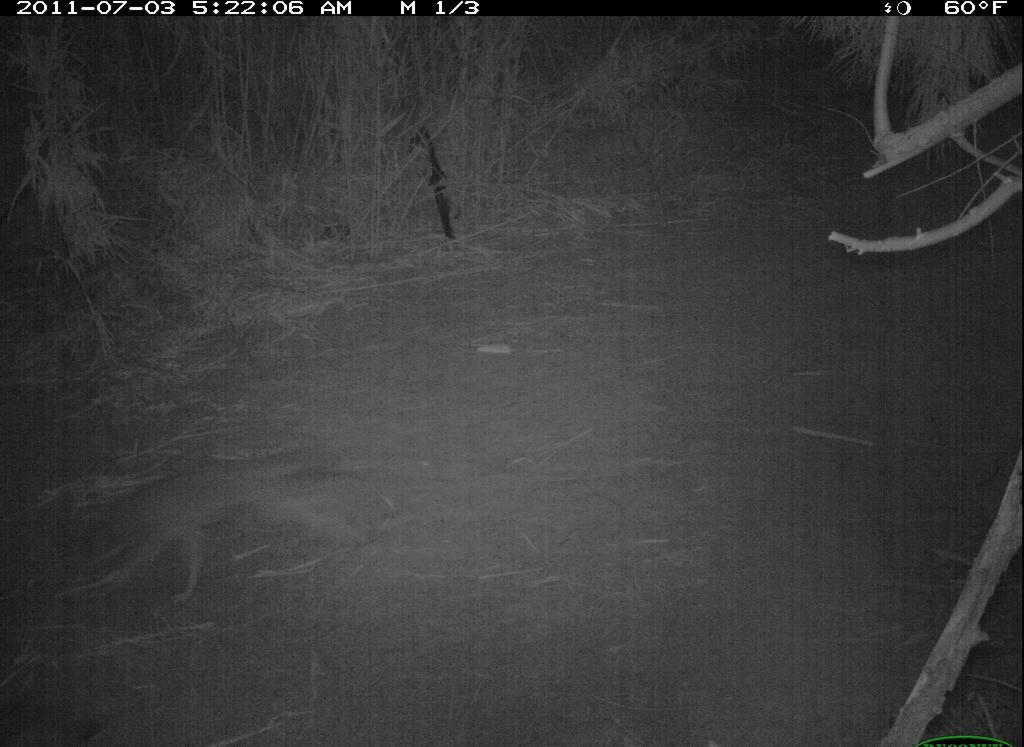coyote: (57, 440, 387, 598)
